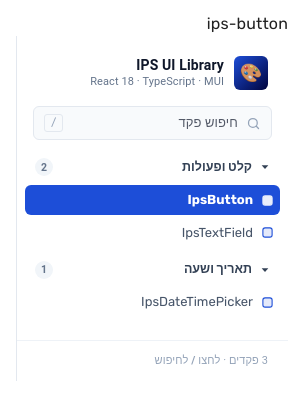
Test: useHashRoute › puts the component in the URL when the sidebar is clicked
The width and height of the screenshot is (300, 398).
Click the button "IpsTextField".
click(152, 233)  # box [25,217,280,248]
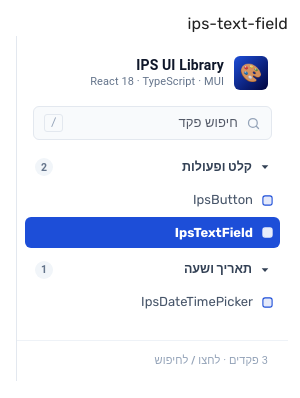
Check: the text with test id "route" reads "ips-text-field", box [188,14,288,33]
